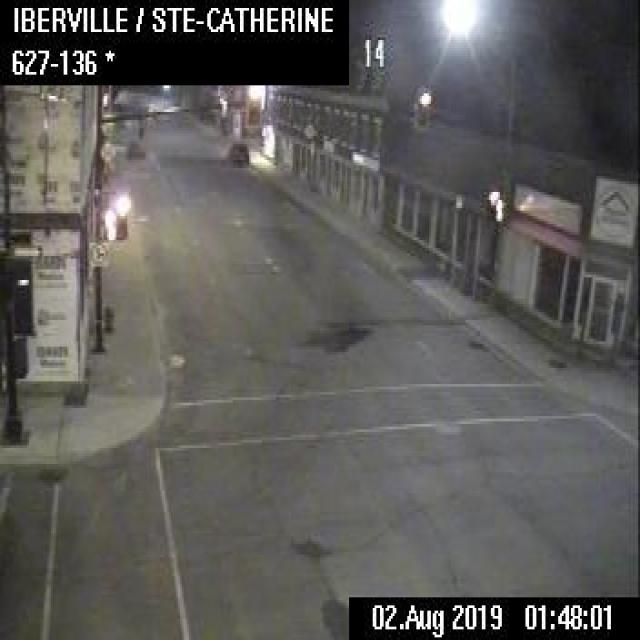vehicle: (222, 139, 249, 168), (124, 136, 144, 157)
